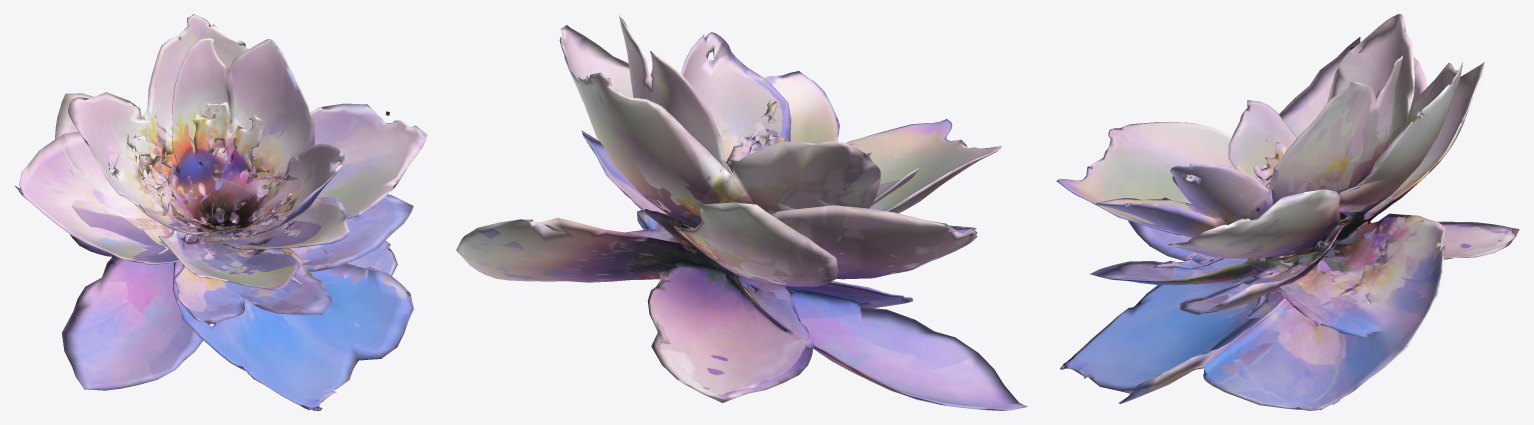
The model's file is majestic_soft_magical_0126034407_texture.glb.
The picture shows the model from 3 angles, left to right: view 1: azimuth 30°, elevation 25°; view 2: azimuth 150°, elevation 25°; view 3: azimuth 270°, elevation 25°; orthographic projection. The views are drawn at different scales.
Size of the model in its own units: 1.98 by 1.41 by 1.81.
1 material, 1 textured.
